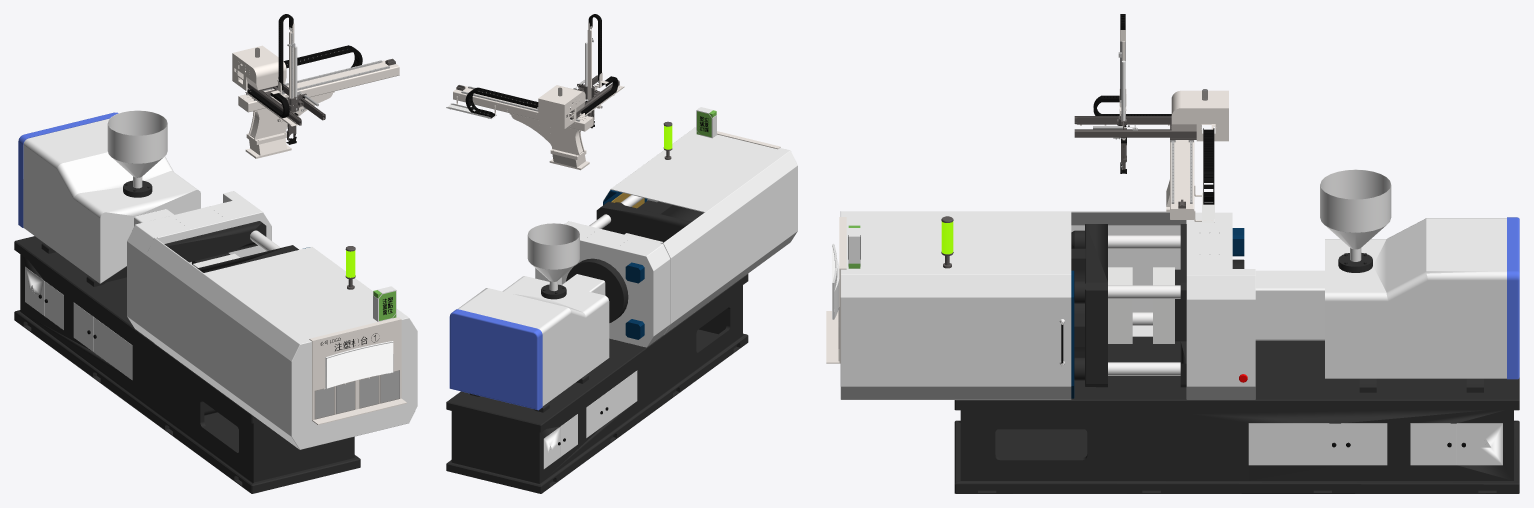
The model's file is three-axis-robot.glb.
The picture shows the model from 3 angles, left to right: view 1: azimuth 30°, elevation 25°; view 2: azimuth 150°, elevation 25°; view 3: azimuth 270°, elevation 25°; orthographic projection. The views are drawn at different scales.
Parts seen in each view (by area): view 1: Obj3d66-18592180-11-78, Obj3d66-18592180-9-101, Obj3d66-18592180-7-57, Obj3d66-18592180-2-975, Obj3d66-18592180-100-835, Obj3d66-18592180-95-405, Obj3d66-18592180-25-333, Obj3d66-18592180-16-483, Obj3d66-18592180-8-743, Obj3d66-18592180-101-308, Obj3d66-18592180-36-954, Obj3d66-18592180-17-489 (+13 smaller); view 2: Obj3d66-18592180-9-101, Obj3d66-18592180-11-78, Obj3d66-18592180-7-57, Obj3d66-18592180-17-489, Obj3d66-18592180-2-975, Obj3d66-18592180-95-405, Obj3d66-18592180-10-853, Obj3d66-18592180-25-333, Obj3d66-18592180-16-483, Obj3d66-18592180-36-954, Obj3d66-18592180-22-482, Obj3d66-18592180-61-149 (+2 smaller); view 3: Obj3d66-18592180-9-101, Obj3d66-18592180-11-78, Obj3d66-18592180-7-57, Obj3d66-18592180-25-333, Obj3d66-18592180-2-975, Obj3d66-18592180-10-853, Obj3d66-18592180-6-935, Obj3d66-18592180-16-483, Obj3d66-18592180-119-957, Obj3d66-18592180-12-436, Obj3d66-18592180-120-31, Obj3d66-18592180-36-954 (+7 smaller).
Boxes of the visible parts, bbox=[...] form: Obj3d66-18592180-11-78: bbox=[146, 237, 417, 449]; Obj3d66-18592180-9-101: bbox=[14, 236, 360, 493]; Obj3d66-18592180-7-57: bbox=[23, 118, 200, 283]; Obj3d66-18592180-2-975: bbox=[127, 191, 271, 342]; Obj3d66-18592180-100-835: bbox=[309, 317, 406, 424]; Obj3d66-18592180-95-405: bbox=[238, 60, 399, 158]; Obj3d66-18592180-25-333: bbox=[25, 267, 132, 379]; Obj3d66-18592180-16-483: bbox=[107, 110, 167, 177]; Obj3d66-18592180-8-743: bbox=[164, 221, 266, 264]; Obj3d66-18592180-101-308: bbox=[326, 342, 393, 388]; Obj3d66-18592180-36-954: bbox=[232, 45, 286, 90]; Obj3d66-18592180-17-489: bbox=[18, 112, 118, 227]; Obj3d66-18592180-9-101: bbox=[446, 274, 748, 493]; Obj3d66-18592180-11-78: bbox=[603, 127, 797, 334]; Obj3d66-18592180-7-57: bbox=[457, 276, 609, 406]; Obj3d66-18592180-17-489: bbox=[449, 309, 542, 410]; Obj3d66-18592180-2-975: bbox=[536, 221, 670, 347]; Obj3d66-18592180-95-405: bbox=[453, 86, 593, 170]; Obj3d66-18592180-10-853: bbox=[596, 200, 703, 242]; Obj3d66-18592180-25-333: bbox=[543, 370, 637, 468]; Obj3d66-18592180-16-483: bbox=[527, 223, 579, 281]; Obj3d66-18592180-36-954: bbox=[538, 85, 585, 129]; Obj3d66-18592180-22-482: bbox=[566, 258, 628, 322]; Obj3d66-18592180-61-149: bbox=[465, 87, 538, 117]; Obj3d66-18592180-9-101: bbox=[954, 337, 1519, 493]; Obj3d66-18592180-11-78: bbox=[840, 211, 1186, 399]; Obj3d66-18592180-7-57: bbox=[1325, 218, 1506, 378]; Obj3d66-18592180-25-333: bbox=[1248, 423, 1502, 465]; Obj3d66-18592180-2-975: bbox=[1186, 212, 1255, 399]; Obj3d66-18592180-10-853: bbox=[1071, 224, 1107, 387]; Obj3d66-18592180-6-935: bbox=[1255, 270, 1324, 340]; Obj3d66-18592180-16-483: bbox=[1320, 169, 1391, 249]; Obj3d66-18592180-119-957: bbox=[1186, 335, 1255, 386]; Obj3d66-18592180-12-436: bbox=[1108, 235, 1180, 375]; Obj3d66-18592180-120-31: bbox=[1186, 299, 1255, 335]; Obj3d66-18592180-36-954: bbox=[1171, 90, 1228, 141].
Size of the model in its own units: 2.77 by 4.31 by 5.69.
